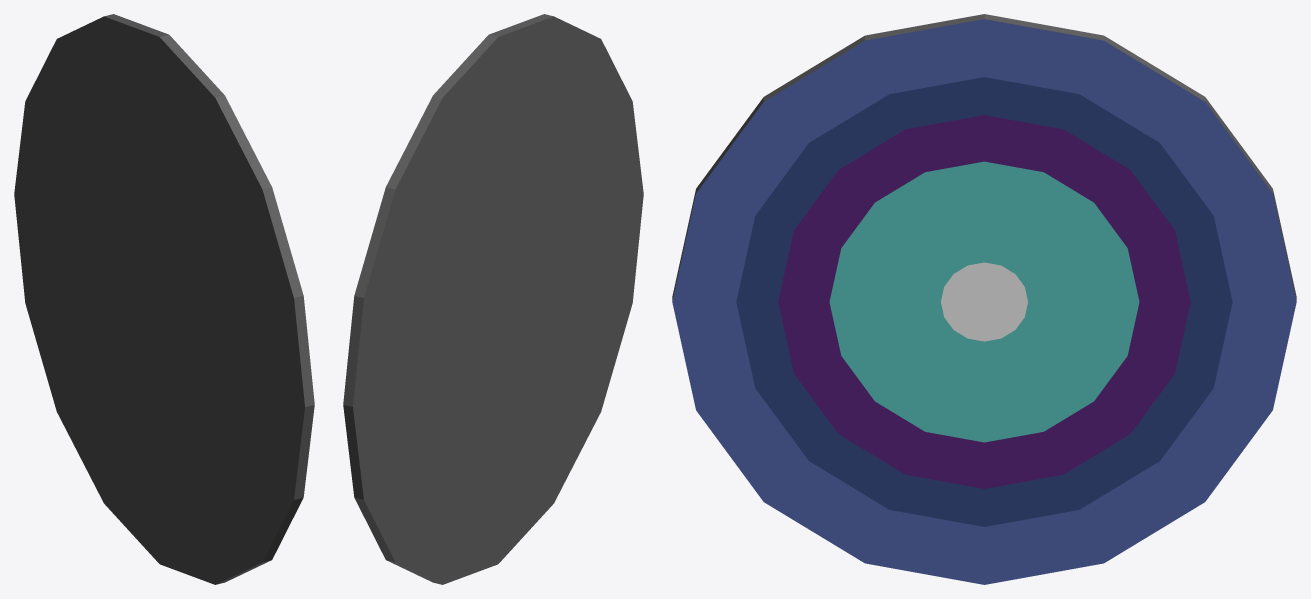
The model's file is Target.fbx.
The picture shows the model from 3 angles, left to right: view 1: azimuth 30°, elevation 25°; view 2: azimuth 150°, elevation 25°; view 3: azimuth 270°, elevation 25°; orthographic projection. The views are drawn at different scales.
Parts seen in each view (by area): view 1: Cylinder; view 2: Cylinder; view 3: Cylinder.
Boxes of the visible parts, x1,y1,x2,y2 form: Cylinder: (14, 14, 314, 584); Cylinder: (343, 14, 643, 584); Cylinder: (672, 14, 1296, 584).
Bounding box in the file's own units: 5.22 × 271 × 271.
